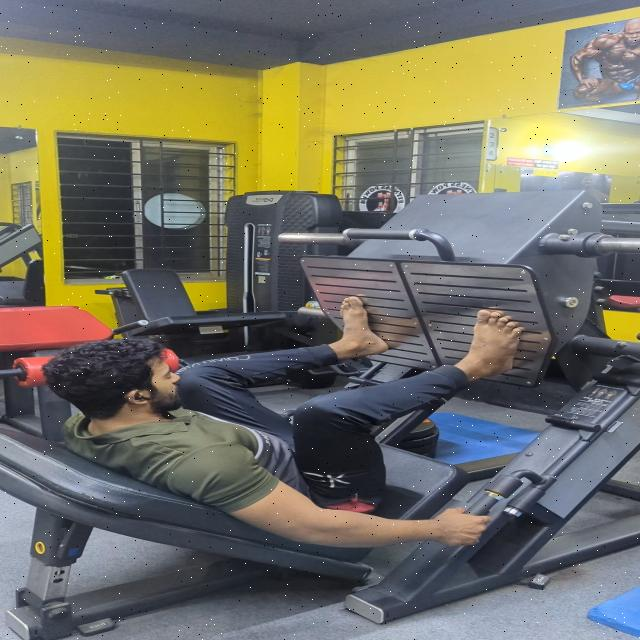Normal_LegPress: (0, 243, 553, 640)
